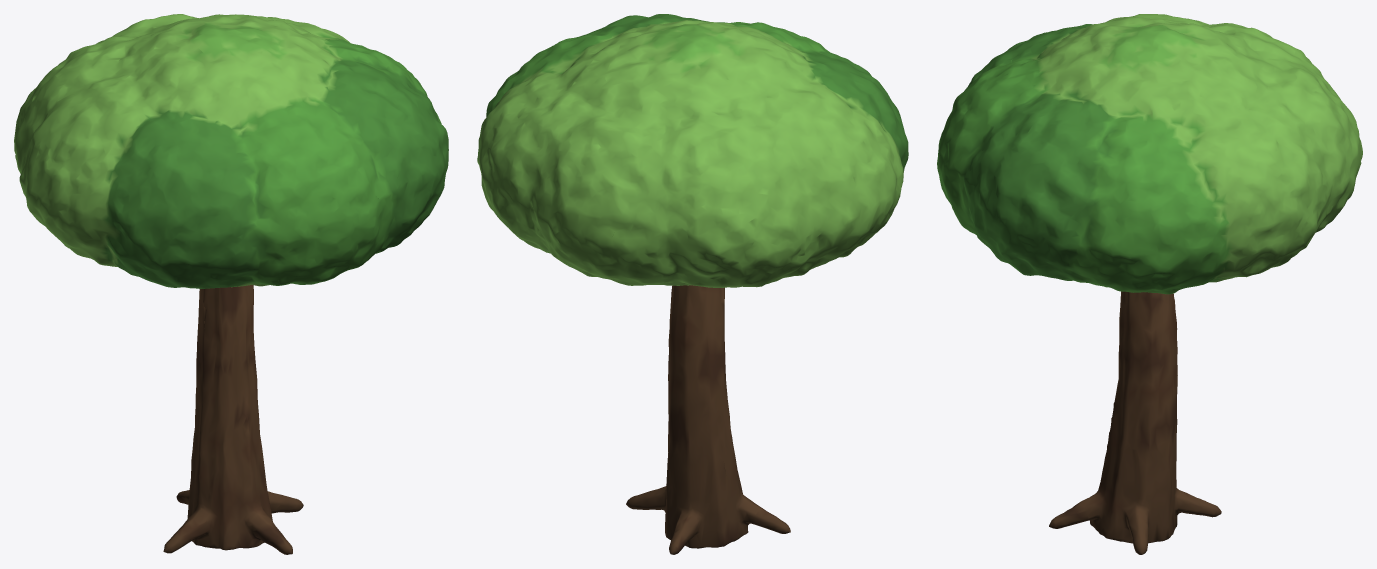
The model's file is broadleaf_mature_continuous_dense.glb.
3 renders of one model, left to right at view 1: azimuth 30°, elevation 25°; view 2: azimuth 150°, elevation 25°; view 3: azimuth 270°, elevation 25°, orthographic.
Parts seen in each view (by area): view 1: broadleaf_mature_continuous_dense_LOD0; view 2: broadleaf_mature_continuous_dense_LOD0; view 3: broadleaf_mature_continuous_dense_LOD0.
Boxes of the visible parts, <box> form: broadleaf_mature_continuous_dense_LOD0: <box>14,14,448,554</box>; broadleaf_mature_continuous_dense_LOD0: <box>477,14,908,554</box>; broadleaf_mature_continuous_dense_LOD0: <box>937,14,1362,554</box>.
Size of what is drawn, in the model's own units: 3.92 by 4.86 by 3.77.
